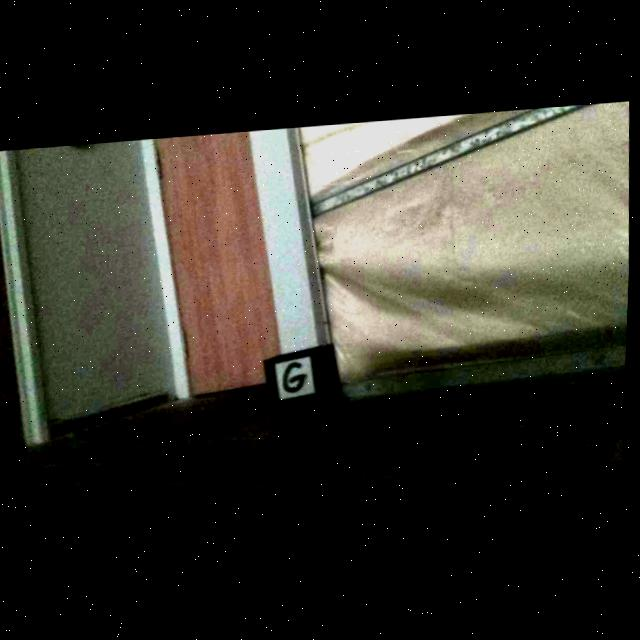G: (286, 365, 308, 395)
